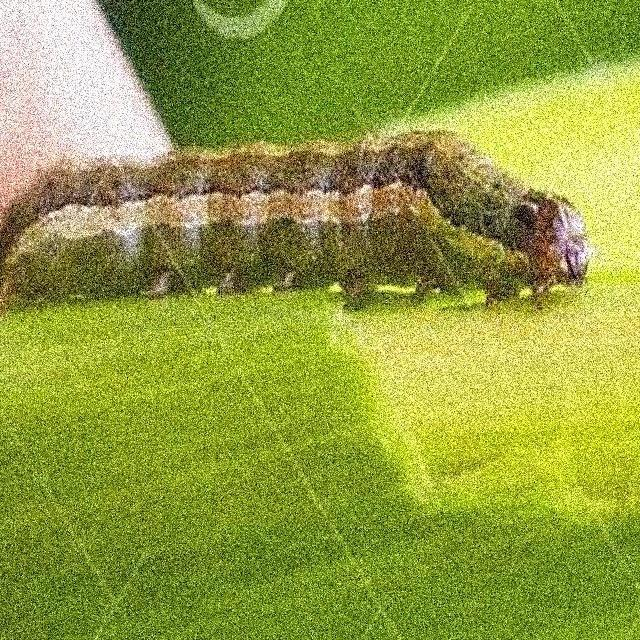gusano_cogollero: (0, 132, 585, 288)
